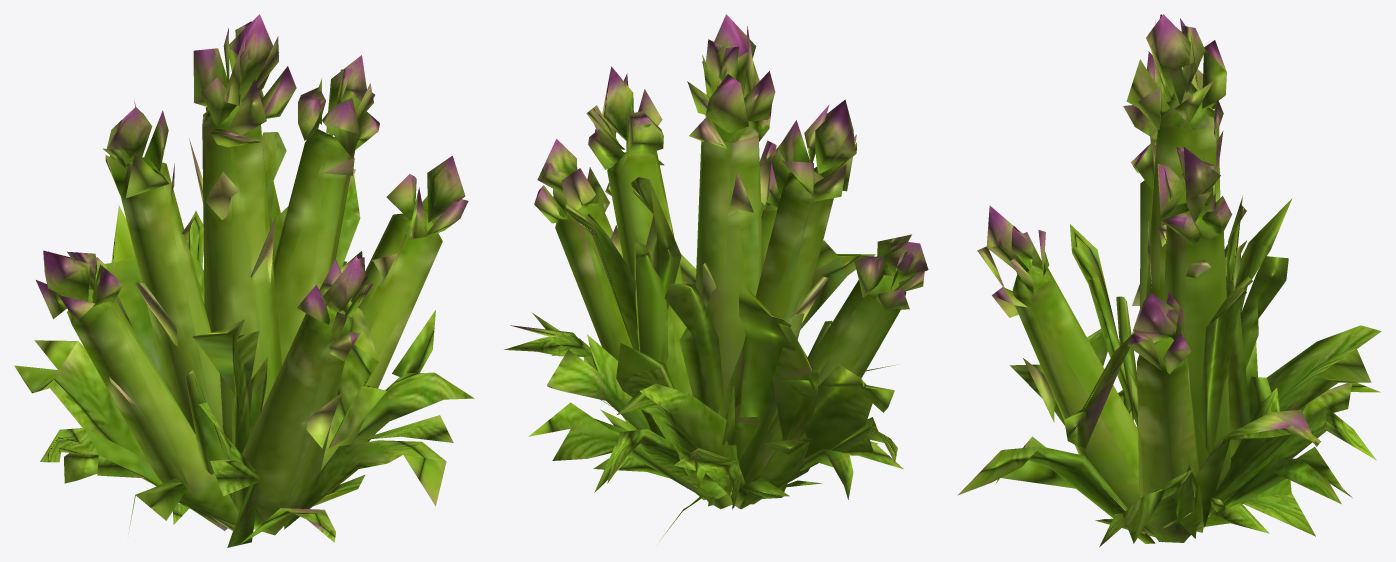
Rendered from crop_asparagus.glb.
The picture shows the model from 3 angles, left to right: view 1: azimuth 30°, elevation 25°; view 2: azimuth 150°, elevation 25°; view 3: azimuth 270°, elevation 25°; orthographic projection. The views are drawn at different scales.
Size of the model in its own units: 0.8445 by 1 by 0.7371.
Materials: 1 (1 with a texture image).
